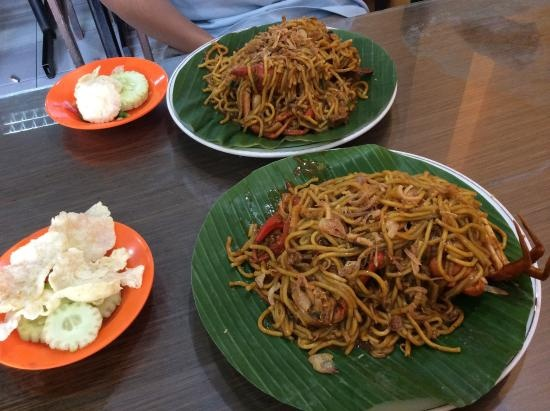mie_aceh: (242, 173, 506, 368), (205, 16, 373, 138)
